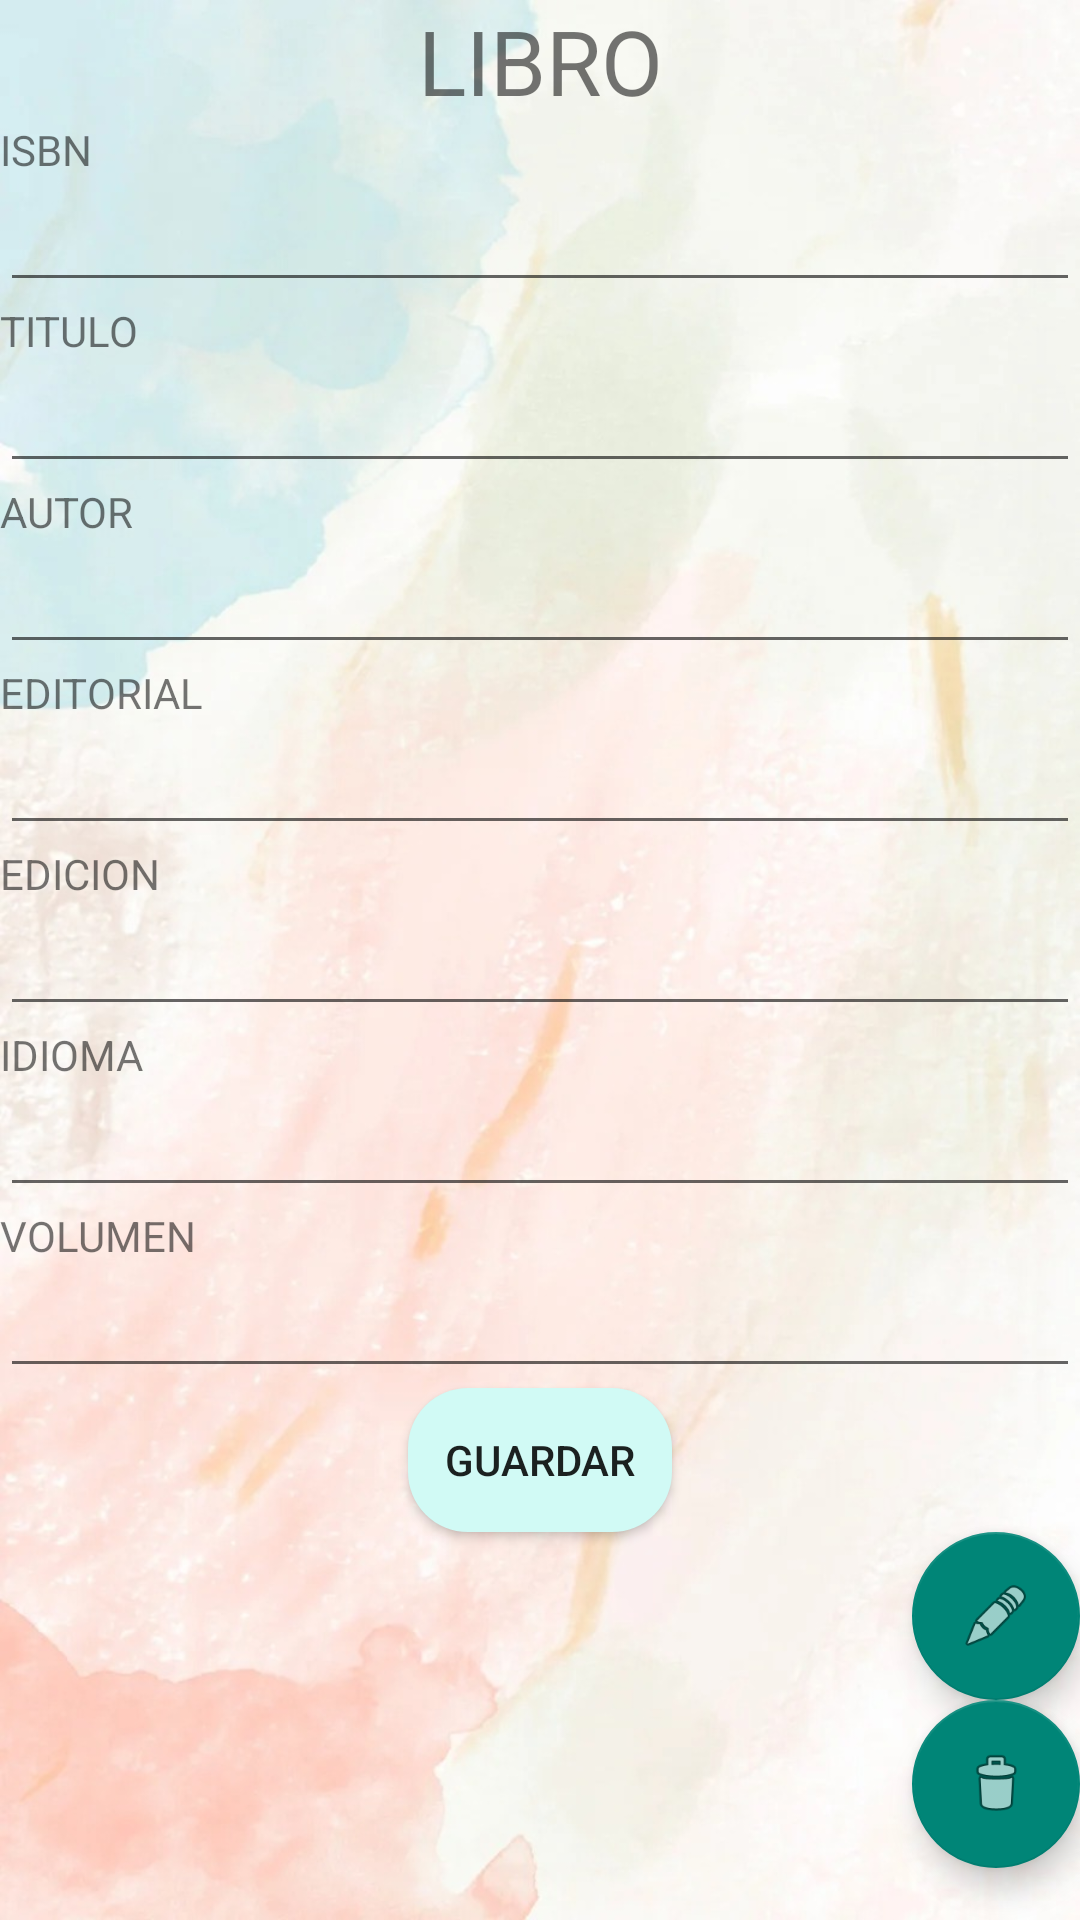

Icons on this 1080x1920 Android screen, each with the point to tap as point (x, y):
delete: point (996, 1784)
edit: point (996, 1616)
